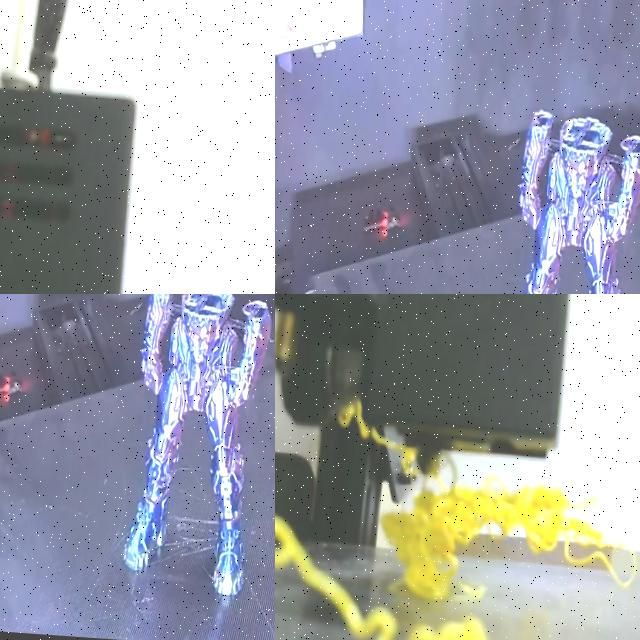spaghetti: (383, 475, 636, 599), (275, 515, 398, 640), (338, 399, 420, 482)
